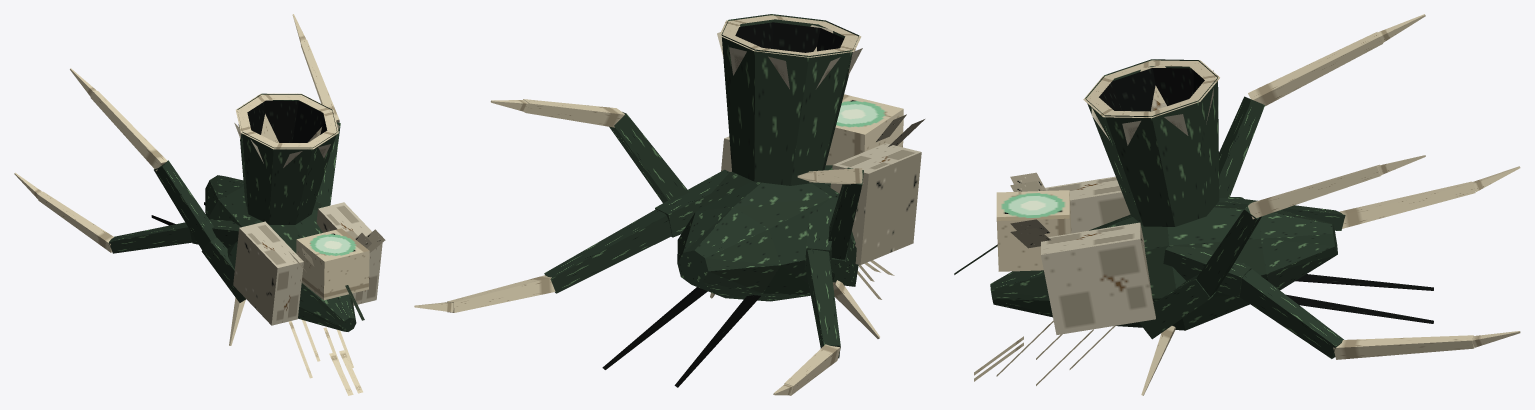
Rendered from vore_locomotion_b.obj.
3 renders of one model, left to right at view 1: azimuth 30°, elevation 25°; view 2: azimuth 150°, elevation 25°; view 3: azimuth 270°, elevation 25°, orthographic. The views are drawn at different scales.
Parts seen in each view (by area): view 1: root, funnel, head, leg_rl_femur, leg_fl_femur, leg_rl_tibia, leg_fl_tibia, leg_rl_coxa, leg_rr_tibia, leg_rr_femur, leg_fl_coxa; view 2: root, funnel, leg_fr_femur, head, leg_rr_femur, leg_fl_femur, leg_fr_tibia, leg_rr_tibia, leg_rl_femur, leg_fr_coxa, leg_fl_coxa, leg_fl_tibia (+5 smaller); view 3: root, funnel, head, leg_fr_femur, leg_rl_tibia, leg_fr_tibia, leg_rl_femur, leg_fl_tibia, leg_rr_femur, leg_rr_tibia, leg_rr_coxa, leg_fr_coxa (+4 smaller).
Boxes of the visible parts, x1,y1,x2,y2 form: root: (205, 175, 385, 395); funnel: (236, 93, 338, 224); head: (296, 228, 369, 320); leg_rl_femur: (154, 160, 216, 250); leg_fl_femur: (109, 222, 191, 253); leg_rl_tibia: (90, 91, 167, 171); leg_fl_tibia: (38, 191, 113, 252); leg_rl_coxa: (201, 237, 245, 302); leg_rr_tibia: (300, 40, 339, 122); leg_rr_femur: (315, 122, 340, 207); leg_fl_coxa: (190, 219, 240, 248); root: (677, 114, 924, 338); funnel: (719, 14, 861, 185); leg_fr_femur: (544, 209, 671, 293); head: (826, 94, 903, 165); leg_rr_femur: (609, 112, 689, 202); leg_fl_femur: (805, 249, 840, 358); leg_fr_tibia: (447, 275, 555, 312); leg_rr_tibia: (523, 99, 624, 127); leg_rl_femur: (828, 167, 863, 259); leg_fr_coxa: (655, 169, 729, 237); leg_fl_coxa: (804, 197, 837, 269); leg_fl_tibia: (784, 344, 840, 395); root: (974, 172, 1337, 395); funnel: (1083, 59, 1219, 226); head: (954, 190, 1071, 274); leg_fr_femur: (1239, 269, 1343, 358); leg_rl_tibia: (1248, 32, 1382, 106); leg_fr_tibia: (1333, 335, 1474, 359); leg_rl_femur: (1219, 96, 1264, 197); leg_fl_tibia: (1339, 181, 1475, 228); leg_rr_femur: (1196, 201, 1261, 296); leg_rr_tibia: (1248, 164, 1381, 219); leg_rr_coxa: (1139, 274, 1215, 339); leg_fr_coxa: (1163, 245, 1251, 297).
Size of the model in its own units: 0.7189 by 0.6069 by 1.04.
1 material, 1 textured.
